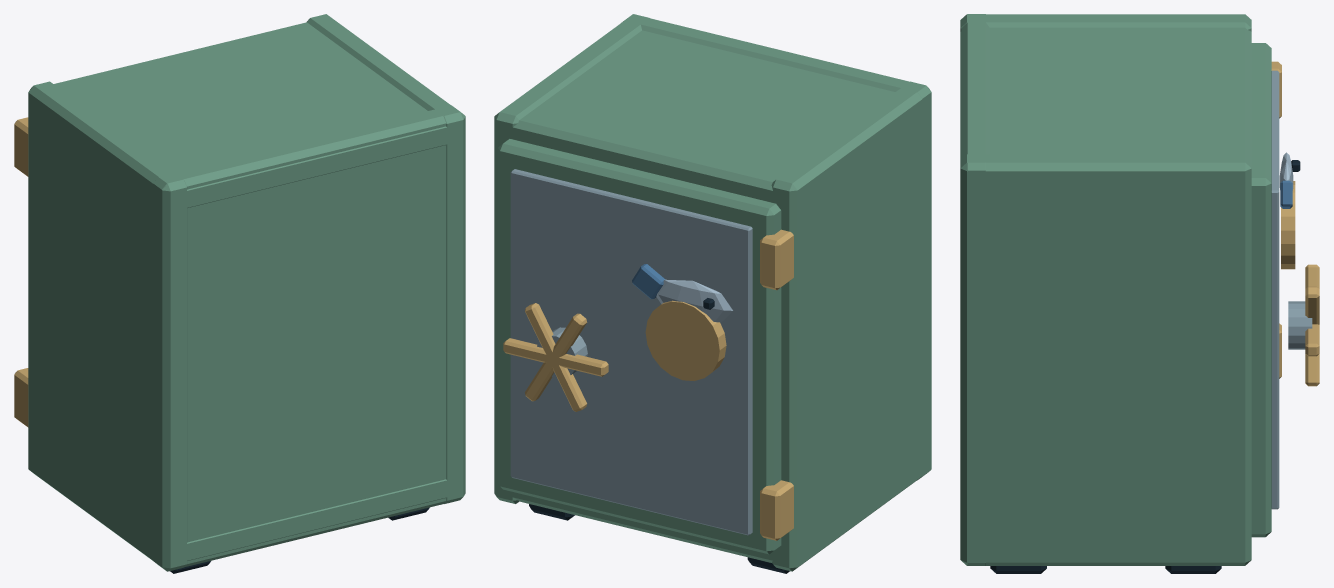
File: vintage_safe.glb
3 views of the same model, side by side, from view 1: azimuth 30°, elevation 25°; view 2: azimuth 150°, elevation 25°; view 3: azimuth 270°, elevation 25° (orthographic). The views are drawn at different scales.
Parts seen in each view (by area): view 1: back, left, top, right, bottom, hinge (×2); view 2: inset, left, top, door_panel, back, bottom, right, combination_dial, wheel_spoke (×3), hinge (×2), whale_badge, tail_left; view 3: right, top, back, door_panel, bottom, left, inset, wheel_spoke (×2), combination_dial, wheel_hub.
Part boxes in pixels (x1=…): back: x1=153, y1=105, x2=464, y2=571; left: x1=28, y1=81, x2=187, y2=571; top: x1=28, y1=22, x2=465, y2=211; right: x1=307, y1=14, x2=465, y2=503; bottom: x1=28, y1=449, x2=465, y2=564; hinge (×2): x1=14, y1=117, x2=28, y2=427; inset: x1=510, y1=169, x2=752, y2=535; left: x1=771, y1=81, x2=931, y2=571; top: x1=494, y1=30, x2=931, y2=211; door_panel: x1=498, y1=139, x2=781, y2=554; back: x1=621, y1=14, x2=931, y2=480; bottom: x1=494, y1=449, x2=931, y2=564; right: x1=494, y1=14, x2=649, y2=503; combination_dial: x1=645, y1=300, x2=726, y2=380; wheel_spoke (×3): x1=503, y1=303, x2=608, y2=411; hinge (×2): x1=760, y1=229, x2=793, y2=540; whale_badge: x1=656, y1=279, x2=732, y2=322; tail_left: x1=632, y1=264, x2=665, y2=299; right: x1=960, y1=154, x2=1251, y2=565; top: x1=960, y1=27, x2=1251, y2=192; back: x1=961, y1=14, x2=989, y2=565; door_panel: x1=1251, y1=43, x2=1271, y2=537; bottom: x1=960, y1=539, x2=1251, y2=558; left: x1=960, y1=14, x2=1251, y2=31; inset: x1=1271, y1=70, x2=1279, y2=509; wheel_spoke (×2): x1=1305, y1=264, x2=1319, y2=386; combination_dial: x1=1281, y1=181, x2=1295, y2=269; wheel_hub: x1=1288, y1=301, x2=1312, y2=349.
Bounding box in the file's own units: 0.9 × 1.15 × 0.8875.
